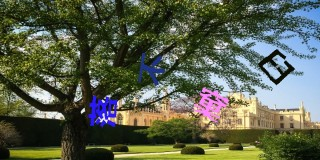不: (138, 52, 165, 85)
窠: (193, 85, 229, 123)
臼: (258, 48, 295, 85)
落: (90, 95, 118, 127)
